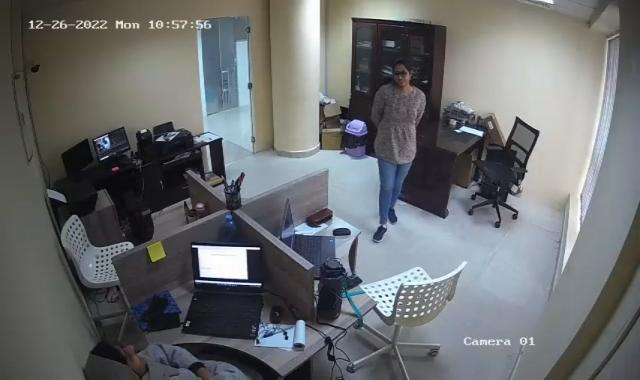no_hairnet: (86, 336, 146, 380), (391, 60, 411, 90)
